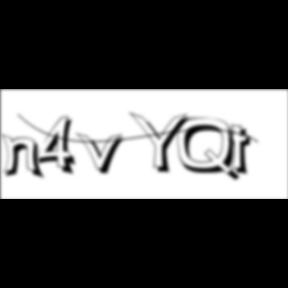4: (36, 115, 82, 179)
Q: (177, 117, 243, 184)
Y: (128, 110, 196, 176)
n: (1, 132, 48, 181)
t: (228, 124, 258, 179)
v: (77, 131, 131, 177)
